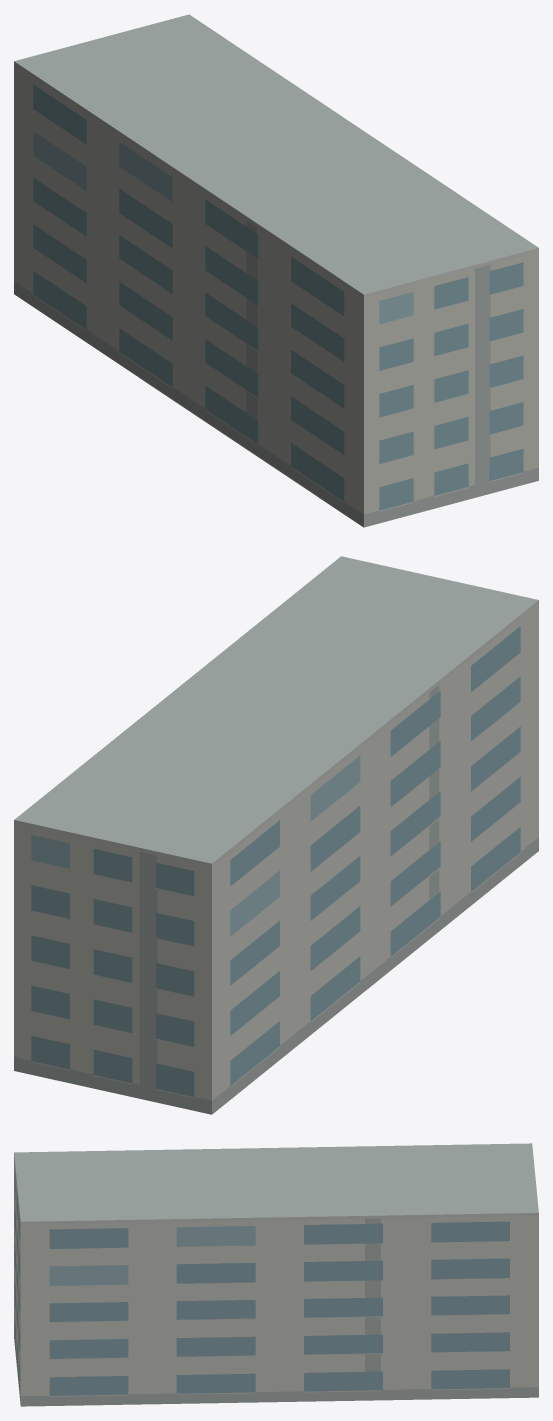
The model's file is residential-91a00533-cd53-40be-8ba3-db69db137380.glb.
3 views of the same model, one above another, from view 1: azimuth 30°, elevation 25°; view 2: azimuth 150°, elevation 25°; view 3: azimuth 270°, elevation 25° (orthographic). The views are drawn at different scales.
Parts seen in each view (by area): view 1: residential-91a00533-cd53-40be-8ba3-db69db137380.tmp; view 2: residential-91a00533-cd53-40be-8ba3-db69db137380.tmp; view 3: residential-91a00533-cd53-40be-8ba3-db69db137380.tmp.
Part boxes in pixels (bbox=[...]): residential-91a00533-cd53-40be-8ba3-db69db137380.tmp: bbox=[14, 14, 538, 527]; residential-91a00533-cd53-40be-8ba3-db69db137380.tmp: bbox=[14, 556, 538, 1114]; residential-91a00533-cd53-40be-8ba3-db69db137380.tmp: bbox=[14, 1143, 538, 1406].
Size of the model in its own units: 13.88 by 15.25 by 39.27.
